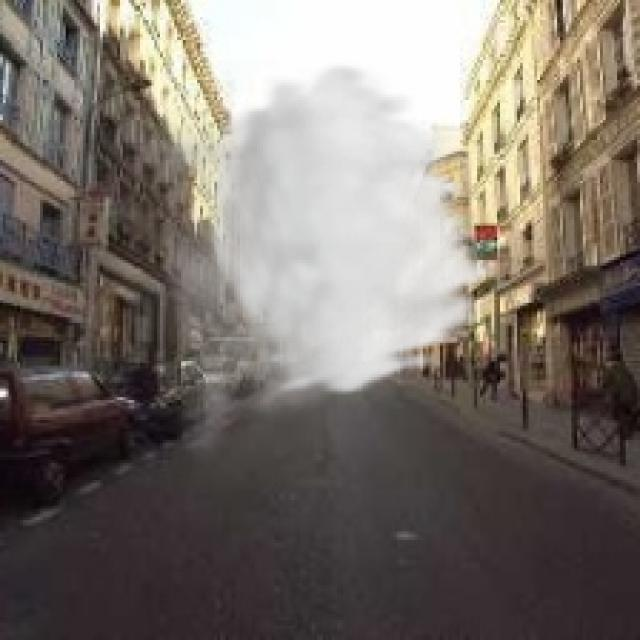smoke: (137, 60, 506, 469)
